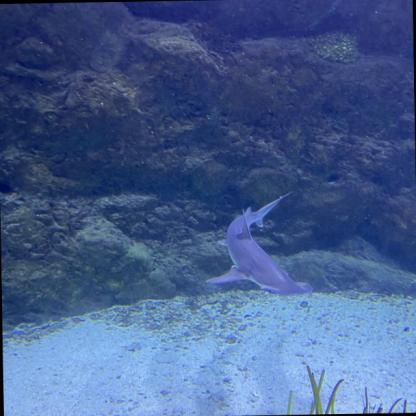shark: (204, 188, 312, 301)
